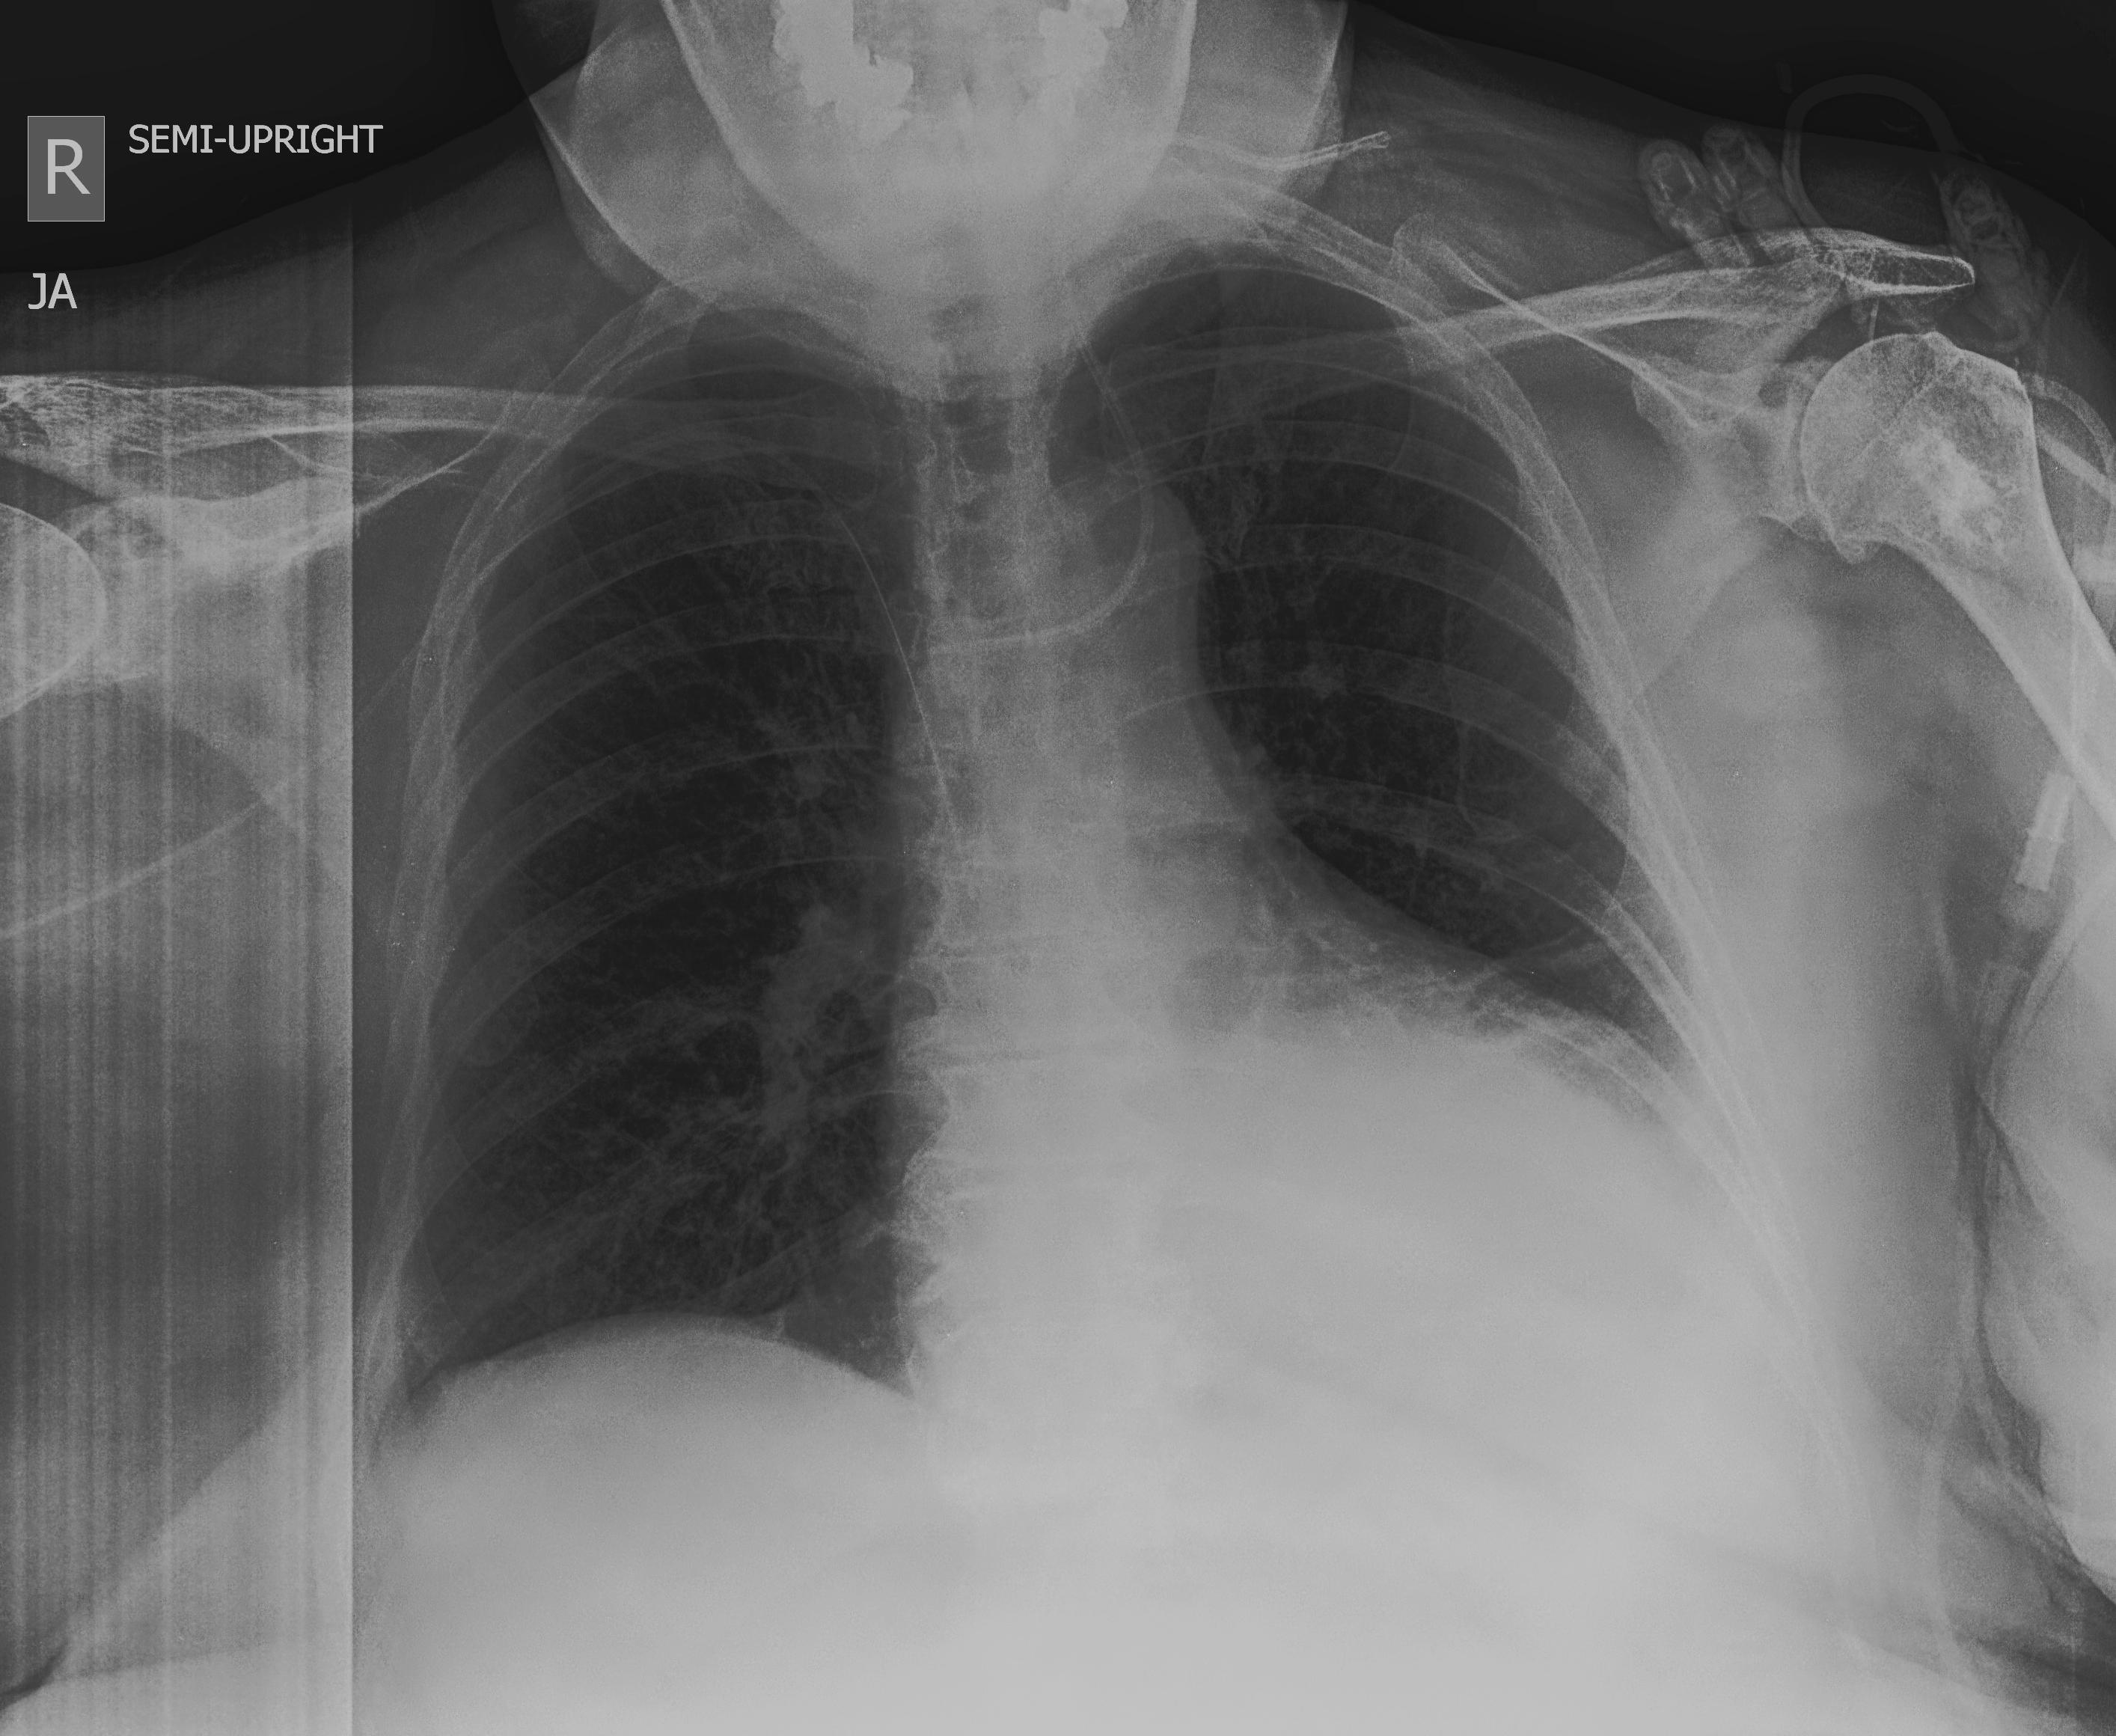Pleural Effusion: (1395, 1000, 1833, 1502)
